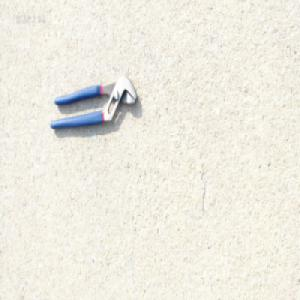Pliers: (48, 73, 137, 130)
